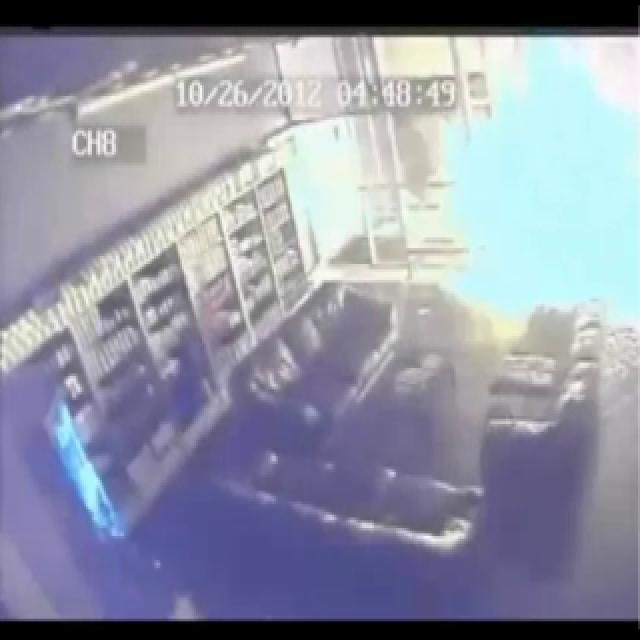arson: (250, 55, 640, 426)
